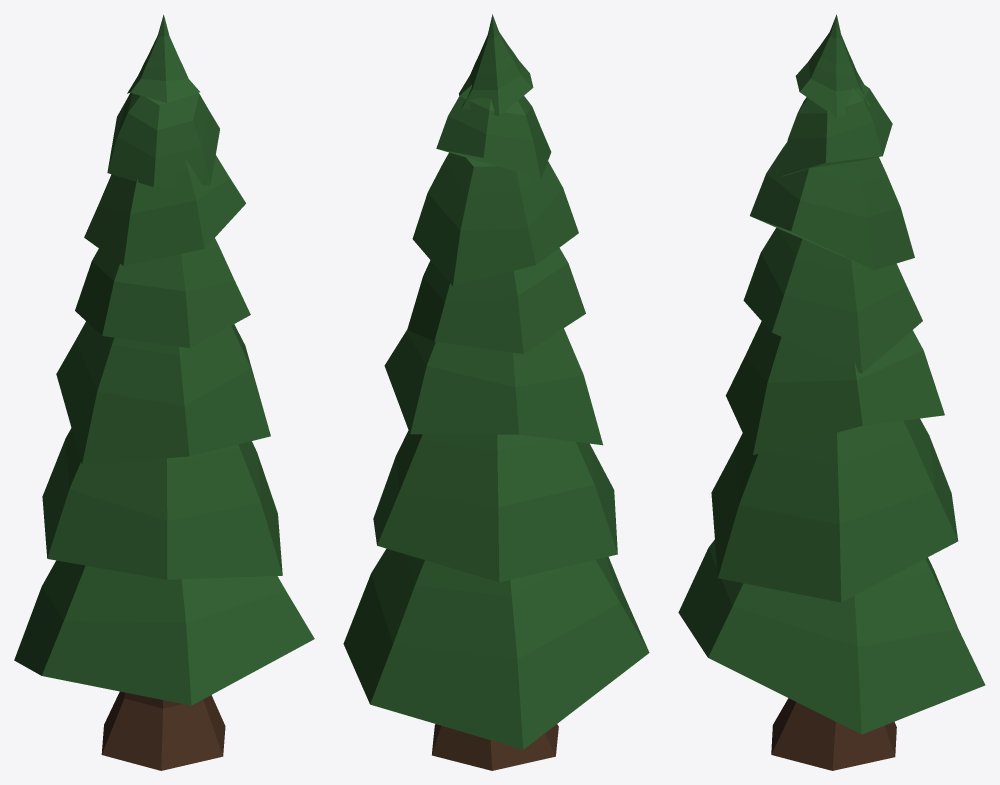
File: pine_tree4.glb
3 views of the same model, side by side, from view 1: azimuth 30°, elevation 25°; view 2: azimuth 150°, elevation 25°; view 3: azimuth 270°, elevation 25° (orthographic).
Visible parts, largest first — view 1: Cylinder.028, Cylinder.027, Cylinder.026, Cylinder.025, Cylinder.024, Cylinder.022, Cylinder.029, Cylinder.023; view 2: Cylinder.028, Cylinder.027, Cylinder.026, Cylinder.024, Cylinder.025, Cylinder.022, Cylinder.023, Cylinder.029; view 3: Cylinder.027, Cylinder.028, Cylinder.026, Cylinder.025, Cylinder.024, Cylinder.022, Cylinder.029, Cylinder.023.
Boxes of the visible parts, box(x1,y1,x2,y2) form: Cylinder.028: box(14, 560, 314, 705); Cylinder.027: box(42, 428, 282, 579); Cylinder.026: box(56, 321, 270, 464); Cylinder.025: box(75, 238, 250, 347); Cylinder.024: box(84, 155, 245, 265); Cylinder.022: box(107, 93, 219, 187); Cylinder.029: box(101, 691, 225, 770); Cylinder.023: box(127, 14, 199, 102); Cylinder.028: box(343, 548, 649, 749); Cylinder.027: box(373, 430, 617, 582); Cylinder.026: box(384, 328, 602, 445); Cylinder.024: box(412, 152, 578, 285); Cylinder.025: box(407, 248, 585, 354); Cylinder.022: box(436, 85, 551, 179); Cylinder.023: box(459, 14, 533, 115); Cylinder.029: box(432, 724, 558, 770); Cylinder.027: box(711, 418, 958, 602); Cylinder.028: box(678, 539, 985, 734); Cylinder.026: box(725, 321, 944, 454); Cylinder.025: box(743, 228, 922, 373); Cylinder.024: box(750, 142, 914, 270); Cylinder.022: box(778, 83, 892, 176); Cylinder.029: box(771, 698, 896, 770); Cylinder.023: box(795, 14, 870, 117).
Bounding box in the file's own units: 4 × 10.07 × 3.85.
